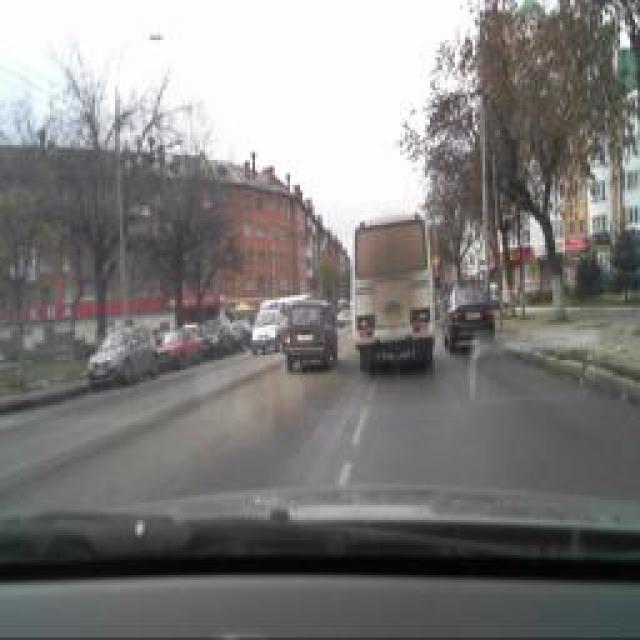sign: (430, 251, 442, 269)
